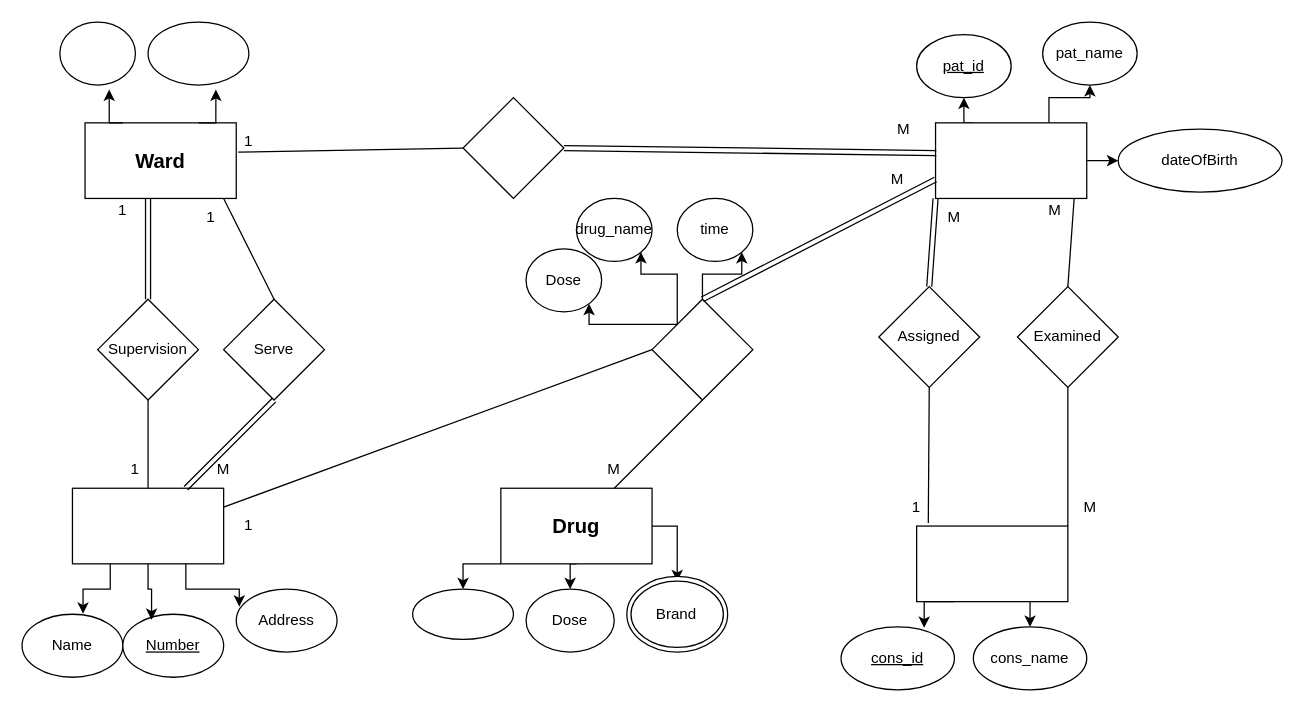
Some shapes in this 1304 by 712 pixel diagram are drawn without their labels. The centre of each missing label's shape, as x and y in pixels:
"Code" belongs at pixel 462 613.
"Consultant" belongs at pixel 991 563.
"Given" belongs at pixel 702 349.
"host" belongs at pixel 513 147.
"Nurse" belongs at pixel 147 525.
"Patient" belongs at pixel 1010 160.
"ward_id" belongs at pixel 97 53.
"ward_name" belongs at pixel 198 53.
